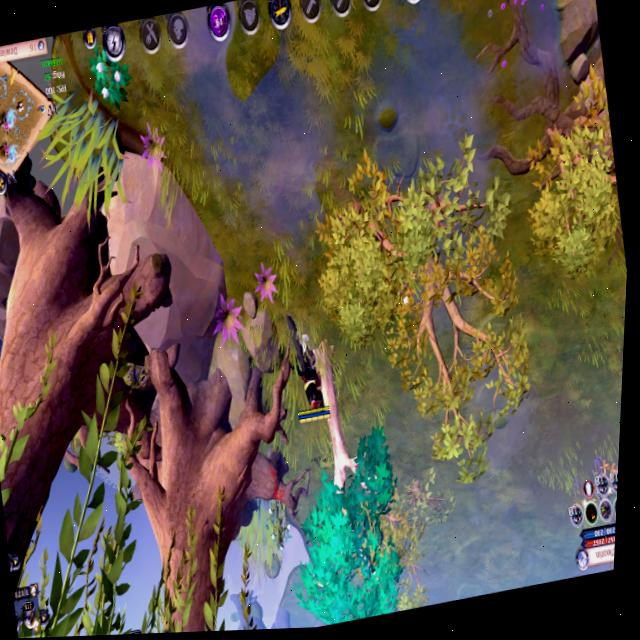hide: (79, 33, 141, 124)
red: (273, 306, 338, 434)
wisp caged: (251, 314, 428, 630)
